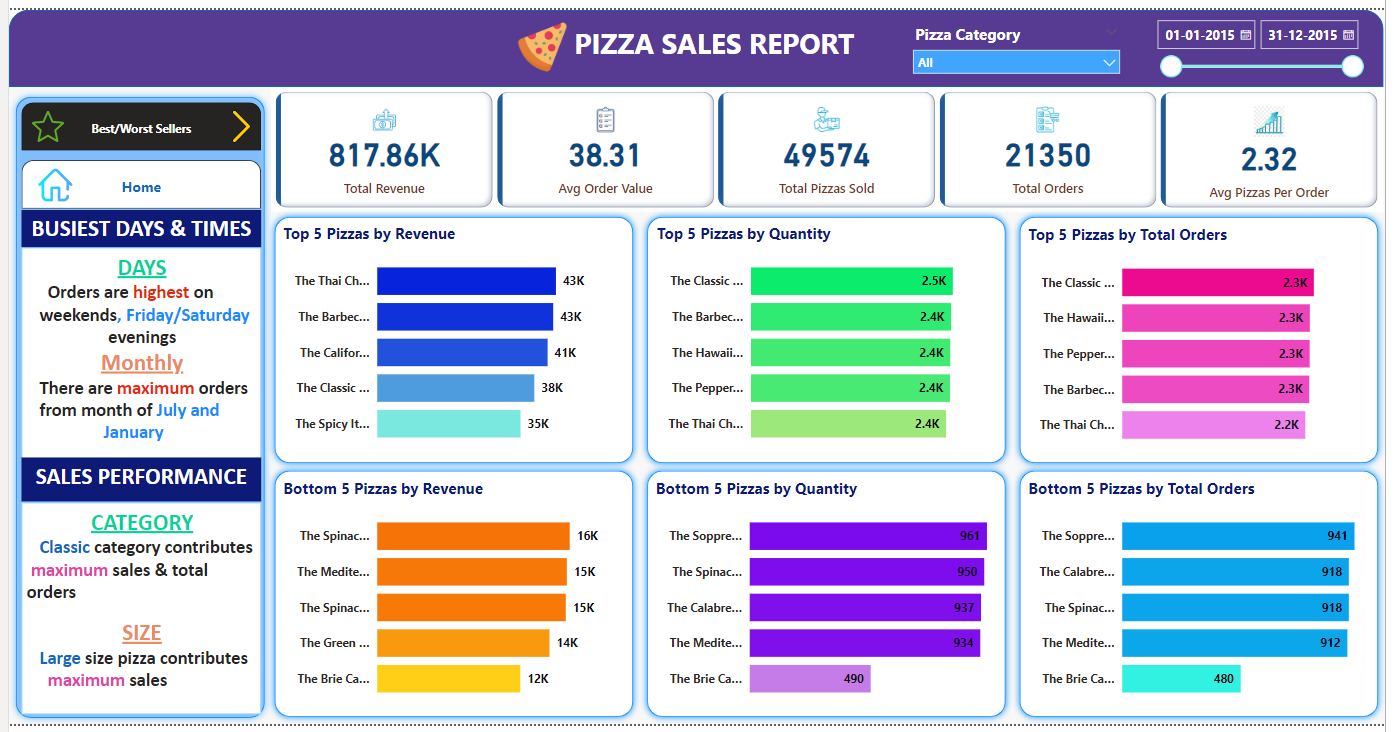

What the dashboard file says about the page in this screenshot:
{"tool":"powerbi","page":{"name":"Best/Worst Sellers","canvas":[1580,820],"ordinal":1},"visuals":[{"type":"cardVisual","fields":{"Data":["pizza_sales.Total Revenue","pizza_sales.Avg Order Value","pizza_sales.Total Pizzas Sold","pizza_sales.Total Orders","pizza_sales.Avg Pizzas Per Order"]},"box":[301.4,88.4,1276.8,143.5],"z":0},{"type":"shape","box":[0,0,1578.3,88.4],"z":1000},{"type":"textbox","box":[623.2,11.6,373.9,68.1],"z":2000},{"type":"image","box":[563.8,8.7,97.1,68.1],"z":3000},{"type":"shape","box":[297.1,229,427.5,298.6],"z":4000},{"type":"shape","box":[0,91.3,301.4,729],"z":5000},{"type":"textbox","box":[14.5,229,275.4,43.5],"z":6000},{"type":"textbox","box":[14.5,272.5,275.4,242],"z":7000},{"type":"textbox","box":[14.5,514.5,275.4,50.7],"z":8000},{"type":"textbox","box":[14.5,565.2,275.4,243.5],"z":9000},{"type":"slicer","fields":{"Values":["pizza_sales.pizza_category"]},"box":[1027.5,11.6,258,79.7],"z":10000},{"type":"slicer","fields":{"Values":["pizza_sales.order_date"]},"box":[1305.8,1.4,258,79.7],"z":11000},{"type":"shape","box":[297.1,521.7,427.5,298.6],"z":12000},{"type":"shape","box":[724.6,229,427.5,298.6],"z":13000},{"type":"shape","box":[1152.2,229,427.5,298.6],"z":14000},{"type":"shape","box":[724.6,521.7,427.5,298.6],"z":15000},{"type":"shape","box":[1152.2,521.7,427.5,298.6],"z":16000},{"type":"barChart","title":"Top 5 Pizzas by Revenue","fields":{"Category":["pizza_sales.pizza_name"],"Y":["pizza_sales.Total Revenue"]},"box":[310.1,243.5,401.4,269.6],"z":17000},{"type":"barChart","title":"Bottom 5 Pizzas by Revenue","fields":{"Category":["pizza_sales.pizza_name"],"Y":["pizza_sales.Total Revenue"]},"box":[310.1,536.2,401.4,269.6],"z":17001},{"type":"barChart","title":"Top 5 Pizzas by Quantity","fields":{"Category":["pizza_sales.pizza_name"],"Y":["pizza_sales.Total Pizzas Sold"]},"box":[739.1,243.5,401.4,269.6],"z":17002},{"type":"barChart","title":"Bottom 5 Pizzas by Quantity","fields":{"Category":["pizza_sales.pizza_name"],"Y":["pizza_sales.Total Pizzas Sold"]},"box":[737.7,536.2,401.4,269.6],"z":17003},{"type":"barChart","title":"Top 5 Pizzas by Total Orders","fields":{"Category":["pizza_sales.pizza_name"],"Y":["pizza_sales.Total Orders"]},"box":[1165.2,244.9,401.4,269.6],"z":17004},{"type":"barChart","title":"Bottom 5 Pizzas by Total Orders","fields":{"Category":["pizza_sales.pizza_name"],"Y":["pizza_sales.Total Orders"]},"box":[1165.2,536.2,401.4,269.6],"z":17005},{"type":"pageNavigator","box":[14.5,105.8,275.4,55.1],"z":17006},{"type":"pageNavigator","box":[14.5,172.5,275.4,56.5],"z":17007},{"type":"image","box":[231.9,110.1,69.6,46.4],"z":17008},{"type":"image","box":[0,176.8,105.8,49.3],"z":17009},{"type":"image","box":[14.5,110.1,60.9,46.4],"z":17010}]}

Visuals, with their boxes in screenshot pixels (x1, y1, x2, y2), scaled from the page's 1580x820 canvas onto the 1394x732 screenshot:
cardVisual - pizza_sales.Total Revenue x pizza_sales.Avg Order Value: [x1=266, y1=79, x2=1392, y2=207]
shape: [x1=0, y1=0, x2=1393, y2=79]
textbox: [x1=550, y1=10, x2=880, y2=71]
image: [x1=497, y1=8, x2=583, y2=69]
shape: [x1=262, y1=204, x2=639, y2=471]
shape: [x1=0, y1=82, x2=266, y2=731]
textbox: [x1=13, y1=204, x2=256, y2=243]
textbox: [x1=13, y1=243, x2=256, y2=459]
textbox: [x1=13, y1=459, x2=256, y2=505]
textbox: [x1=13, y1=505, x2=256, y2=722]
slicer - pizza_sales.pizza_category: [x1=907, y1=10, x2=1134, y2=82]
slicer - pizza_sales.order_date: [x1=1152, y1=1, x2=1380, y2=72]
shape: [x1=262, y1=466, x2=639, y2=731]
shape: [x1=639, y1=204, x2=1016, y2=471]
shape: [x1=1017, y1=204, x2=1393, y2=471]
shape: [x1=639, y1=466, x2=1016, y2=731]
shape: [x1=1017, y1=466, x2=1393, y2=731]
"Top 5 Pizzas by Revenue" barChart: [x1=274, y1=217, x2=628, y2=458]
"Bottom 5 Pizzas by Revenue" barChart: [x1=274, y1=479, x2=628, y2=719]
"Top 5 Pizzas by Quantity" barChart: [x1=652, y1=217, x2=1006, y2=458]
"Bottom 5 Pizzas by Quantity" barChart: [x1=651, y1=479, x2=1005, y2=719]
"Top 5 Pizzas by Total Orders" barChart: [x1=1028, y1=219, x2=1382, y2=459]
"Bottom 5 Pizzas by Total Orders" barChart: [x1=1028, y1=479, x2=1382, y2=719]
pageNavigator: [x1=13, y1=94, x2=256, y2=144]
pageNavigator: [x1=13, y1=154, x2=256, y2=204]
image: [x1=205, y1=98, x2=266, y2=140]
image: [x1=0, y1=158, x2=93, y2=202]
image: [x1=13, y1=98, x2=67, y2=140]
